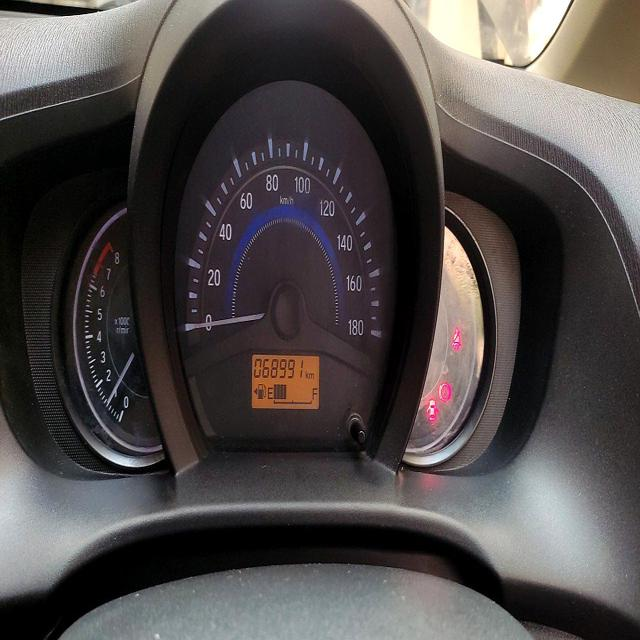odometer: (251, 353, 307, 385)
